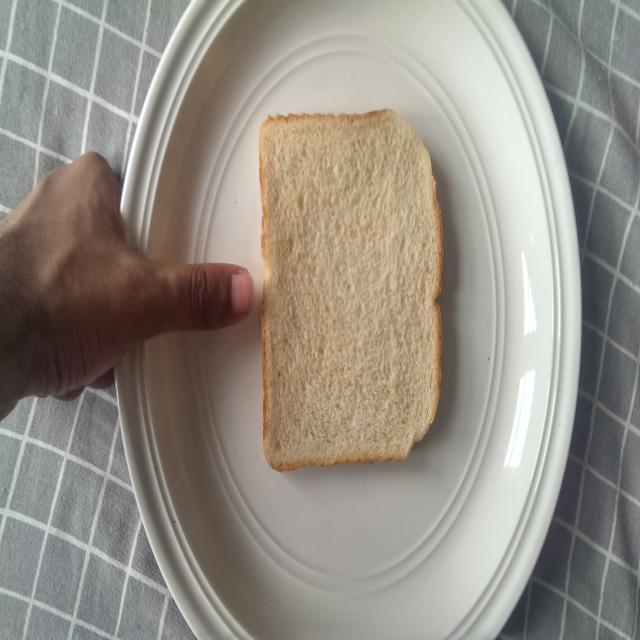Bread: (253, 106, 452, 490)
Finger: (180, 253, 260, 347)
